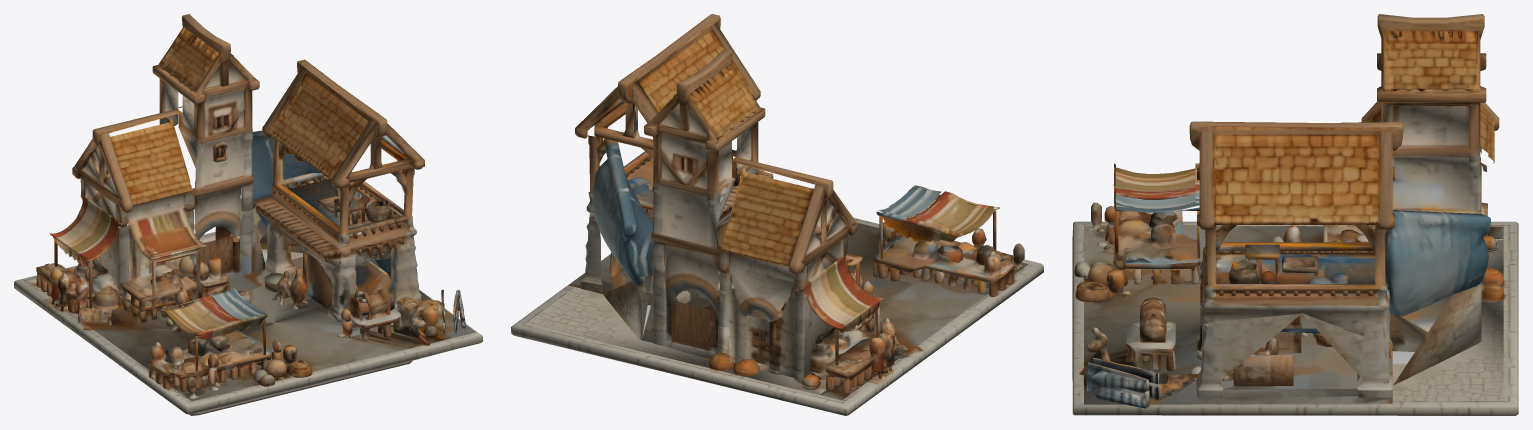
Rendered from pasar.glb.
3 renders of one model, left to right at view 1: azimuth 30°, elevation 25°; view 2: azimuth 150°, elevation 25°; view 3: azimuth 270°, elevation 25°, orthographic. The views are drawn at different scales.
Parts seen in each view (by area): view 1: tripo_node_656f9fd4; view 2: tripo_node_656f9fd4; view 3: tripo_node_656f9fd4.
Boxes of the visible parts, x1,y1,x2,y2 form: tripo_node_656f9fd4: (14, 14, 482, 415); tripo_node_656f9fd4: (511, 14, 1043, 415); tripo_node_656f9fd4: (1072, 14, 1518, 415).
Bounding box in the file's own units: 1 × 0.7793 × 0.9918.
Materials: 1 (1 with a texture image).
